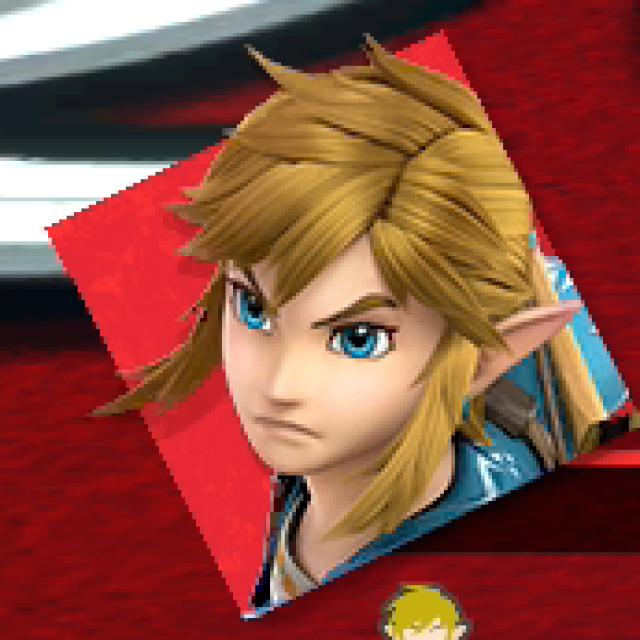link: (158, 54, 604, 613)
